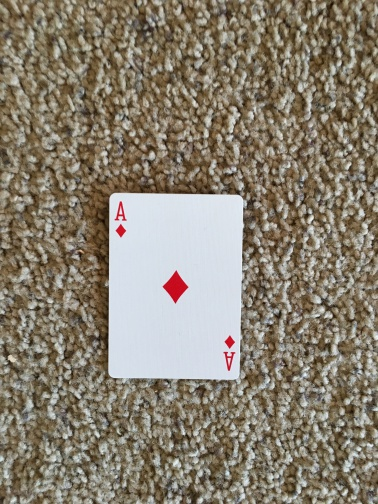ace: (106, 191, 243, 382)
